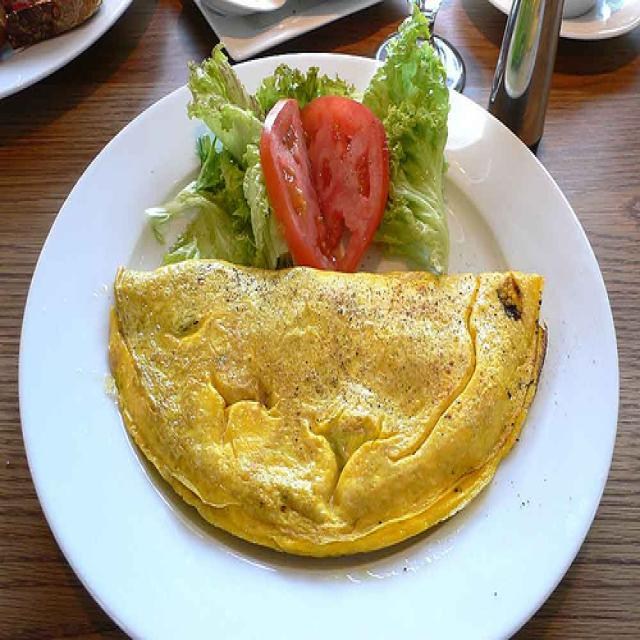鸡蛋料理: (79, 238, 552, 569)
